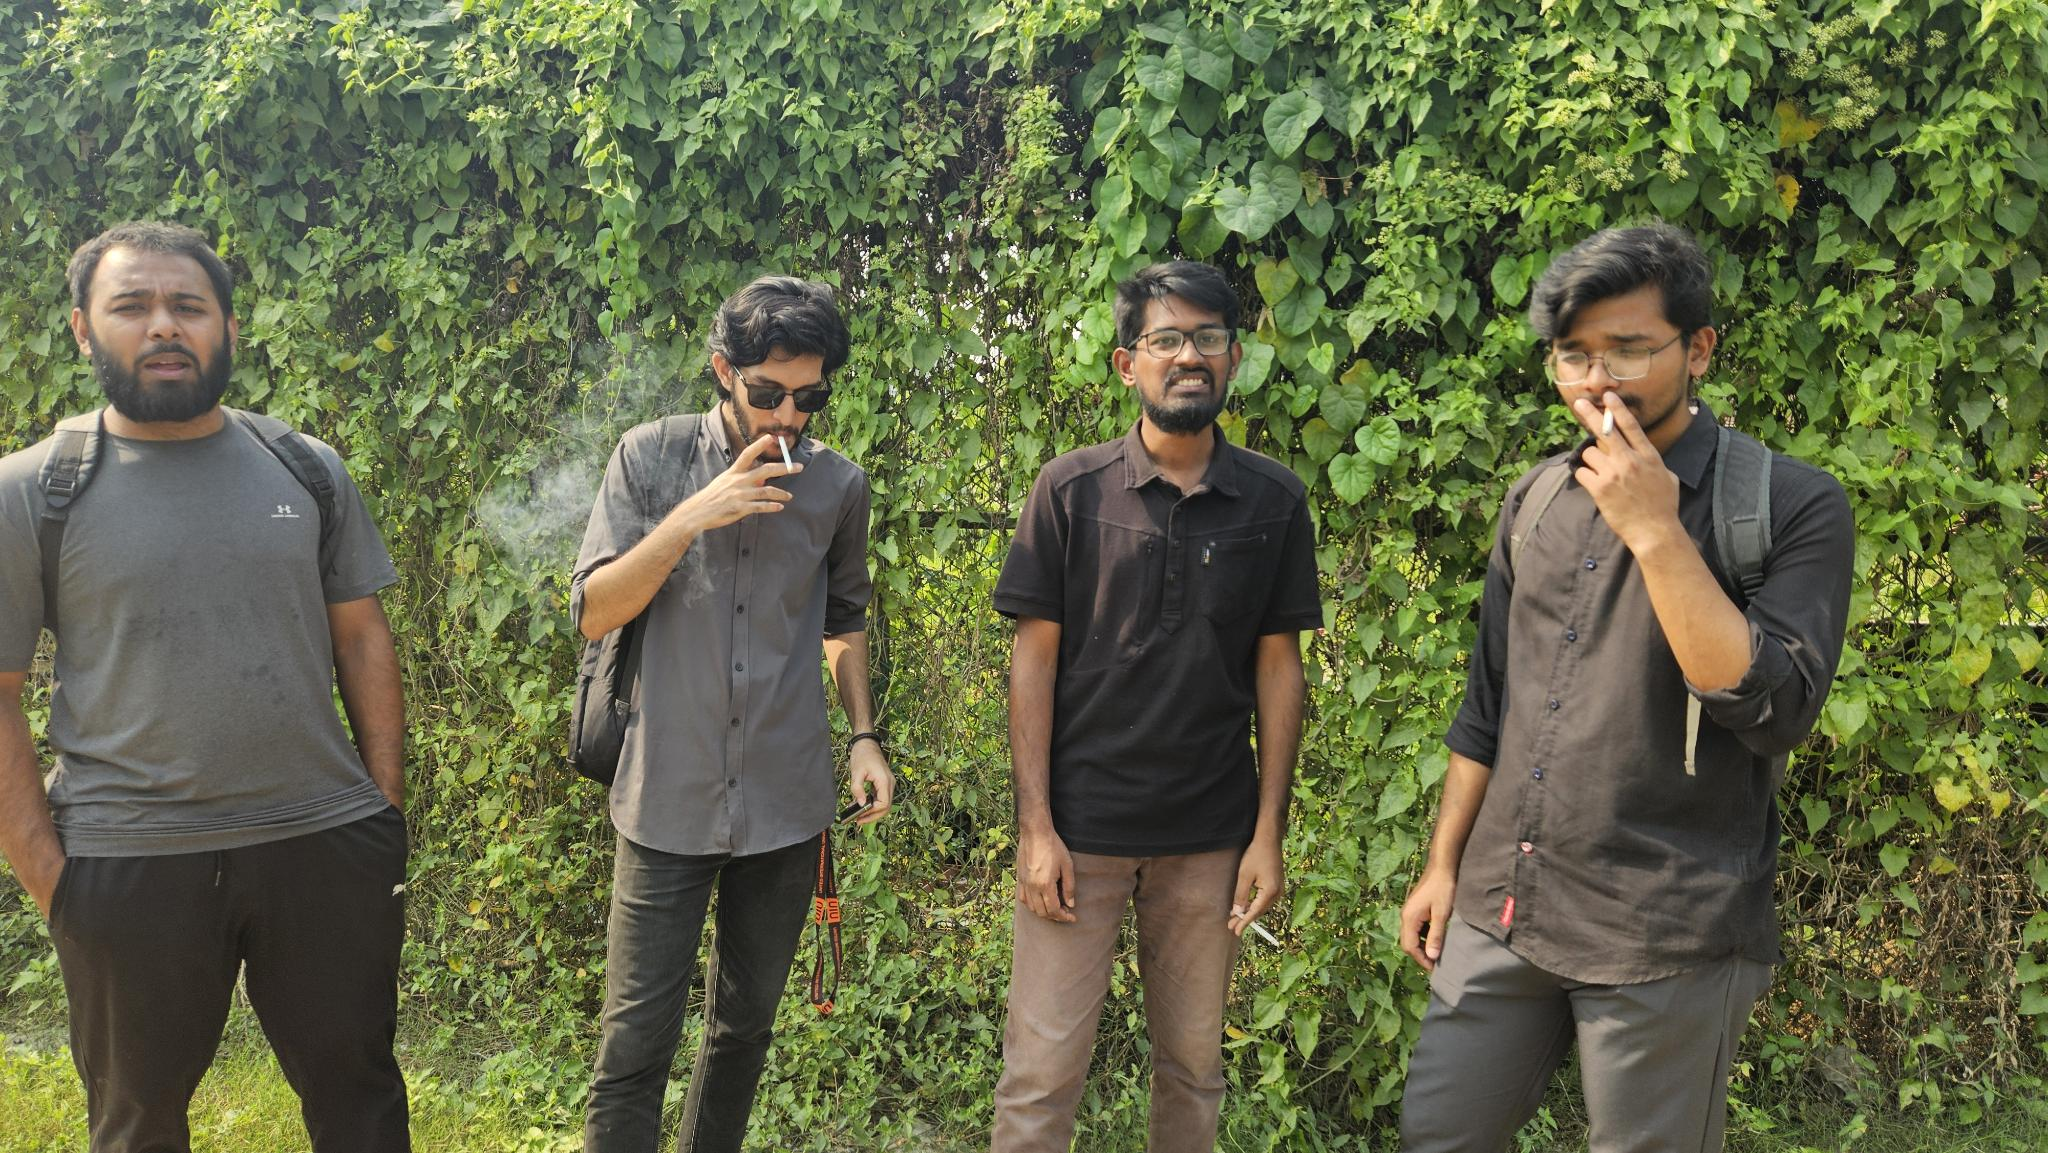cigarette: (1235, 911, 1280, 948), (778, 433, 795, 474), (1601, 405, 1615, 439)
nonSmoker: (0, 222, 412, 1153)
smoker: (1400, 226, 1857, 1153), (992, 260, 1325, 1153), (565, 276, 895, 1153)
